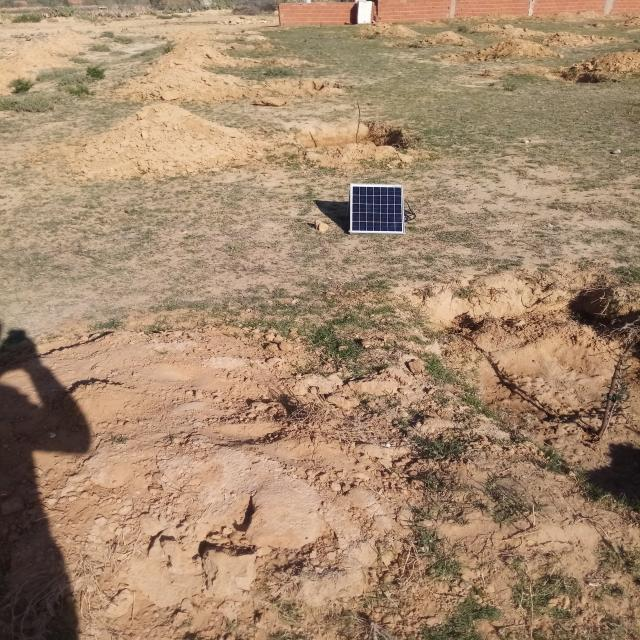no faulty: (351, 184, 405, 234)
